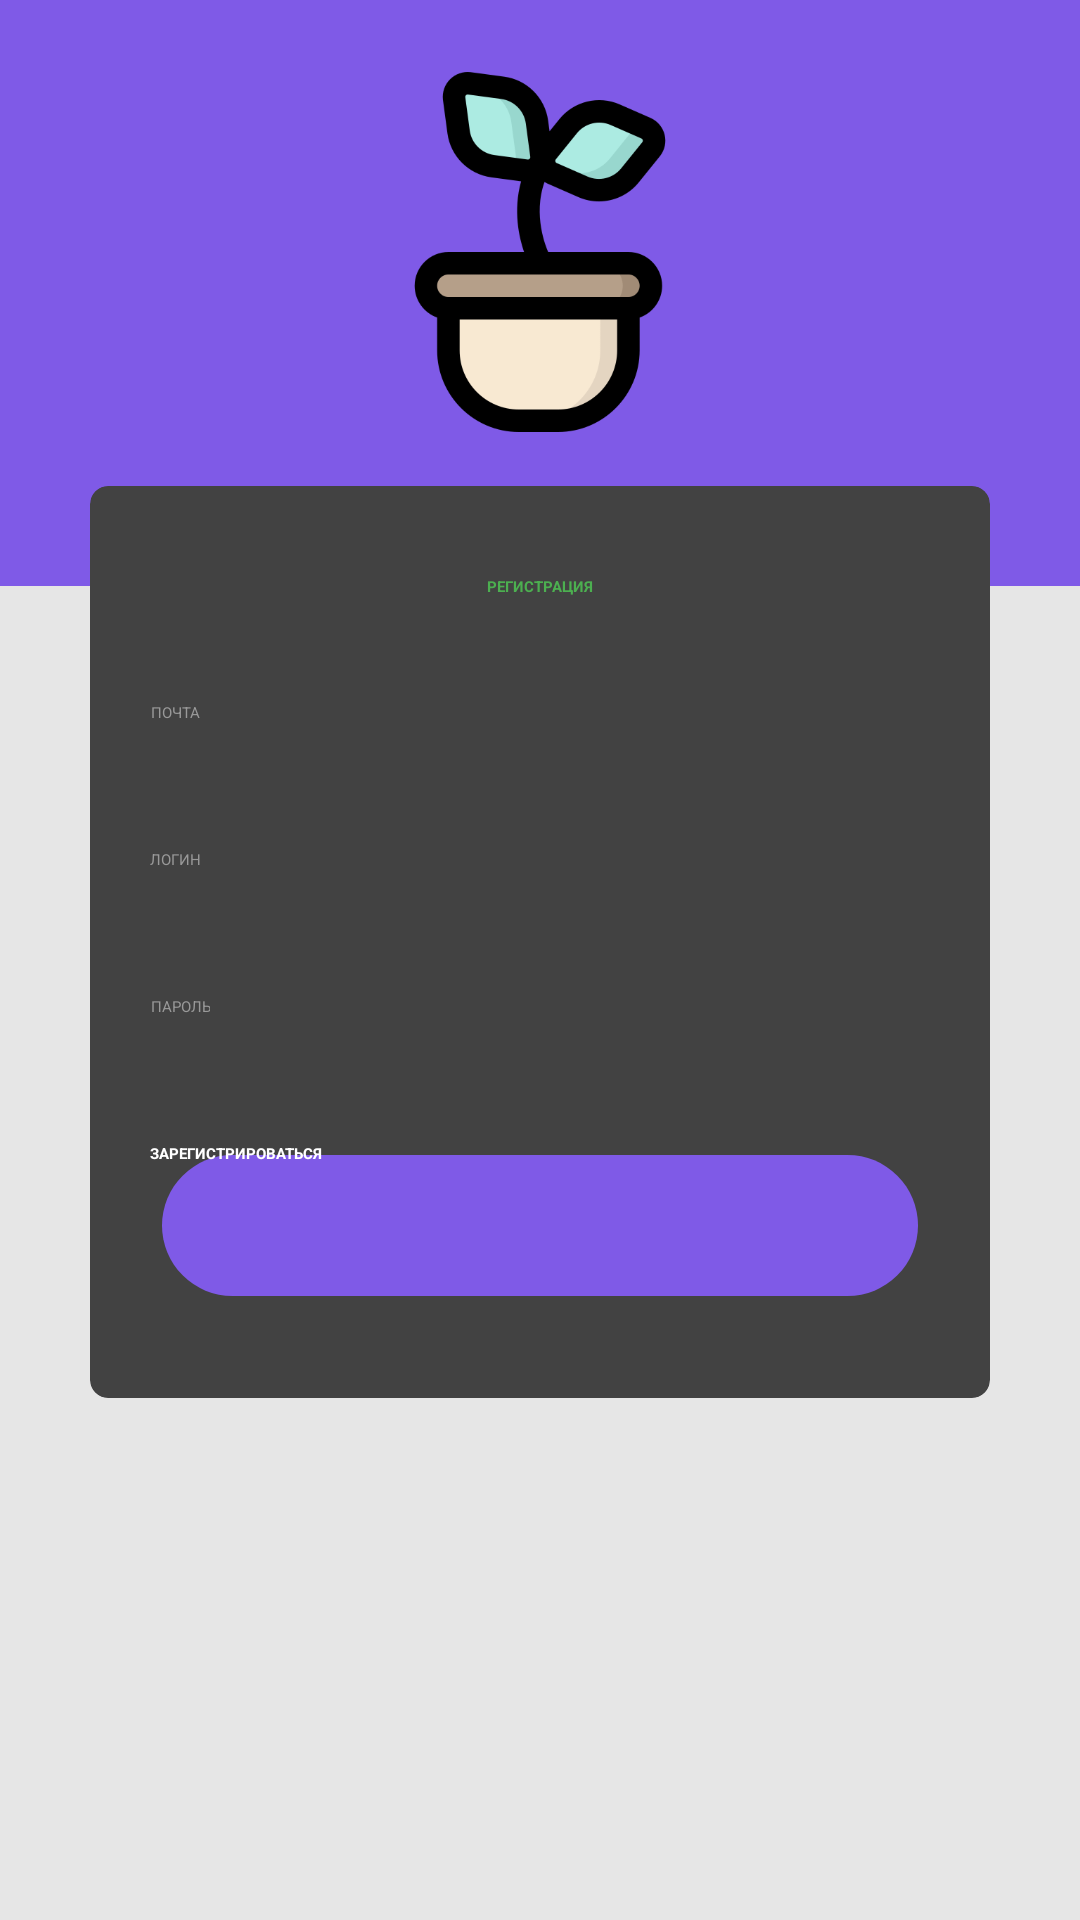

Icons on this 1080px×1920px Android screen, each with the point to tap as point (x, y):
plant: point (540, 252)
